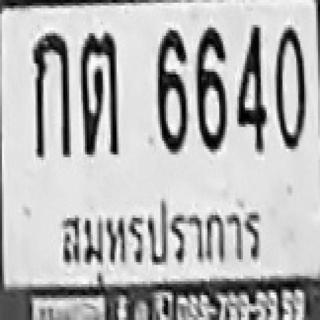A01: (18, 14, 75, 167)
A21: (72, 20, 124, 162)
N00: (270, 17, 309, 168)
N04: (232, 23, 273, 160)
N06: (130, 14, 197, 162), (194, 19, 233, 162)
P57: (55, 199, 260, 263)
